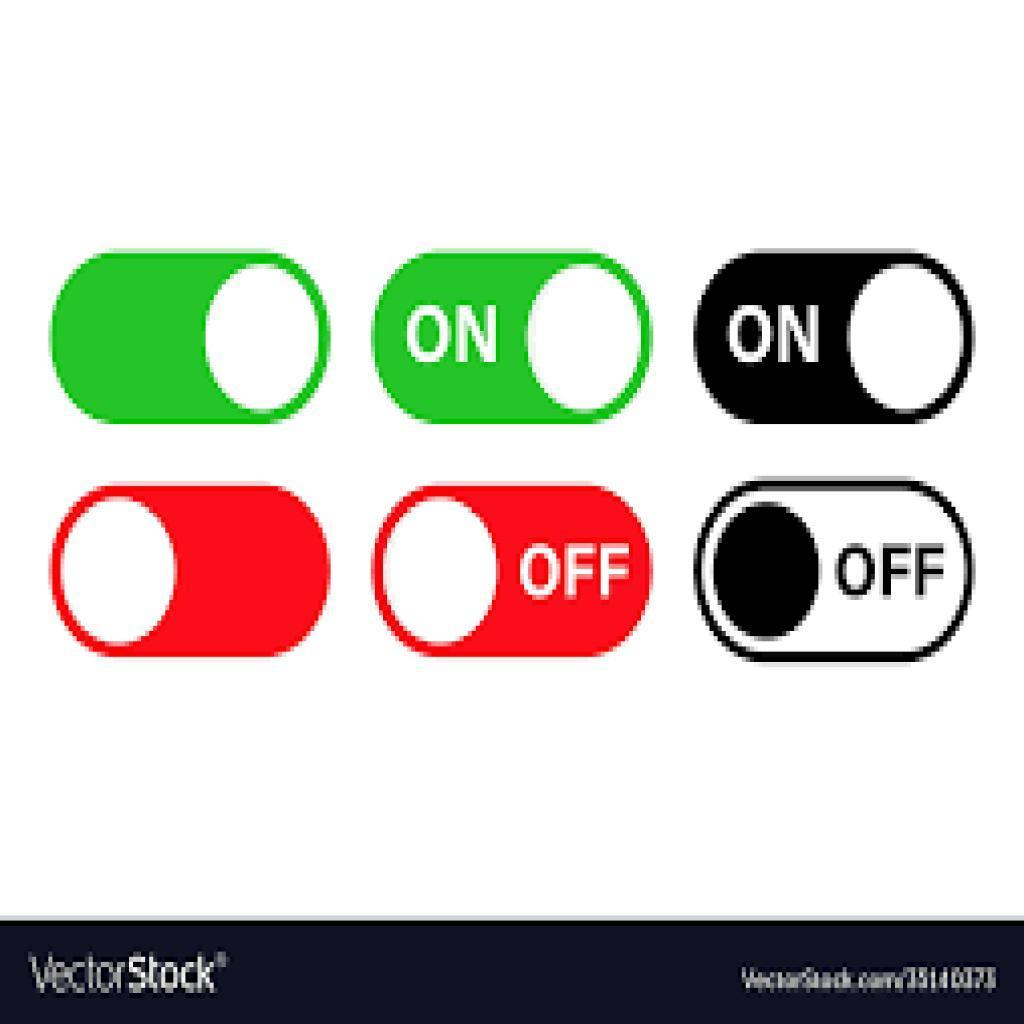switch: (693, 476, 977, 667), (693, 247, 977, 427), (51, 479, 332, 660), (46, 246, 330, 425), (370, 484, 656, 659), (371, 253, 653, 424)
